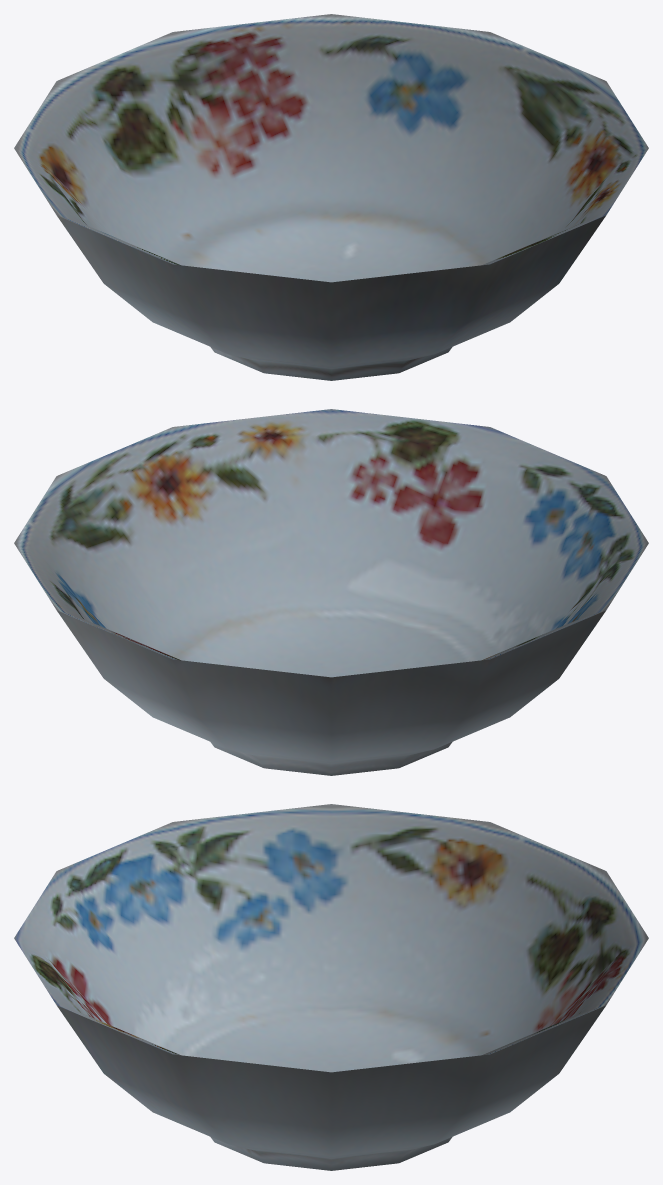
The model's file is bowl-3.FBX.
3 renders of one model, top to bottom at view 1: azimuth 30°, elevation 25°; view 2: azimuth 150°, elevation 25°; view 3: azimuth 270°, elevation 25°, orthographic.
Visible parts, largest first — view 1: bowl-3_LOD0; view 2: bowl-3_LOD0; view 3: bowl-3_LOD0.
Part boxes in pixels (box(x1,y1,x2,y2)): bowl-3_LOD0: box(14, 14, 648, 380); bowl-3_LOD0: box(14, 409, 648, 775); bowl-3_LOD0: box(14, 804, 648, 1170).
Size of what is drawn, in the model's own units: 11.94 by 3.64 by 11.94.
